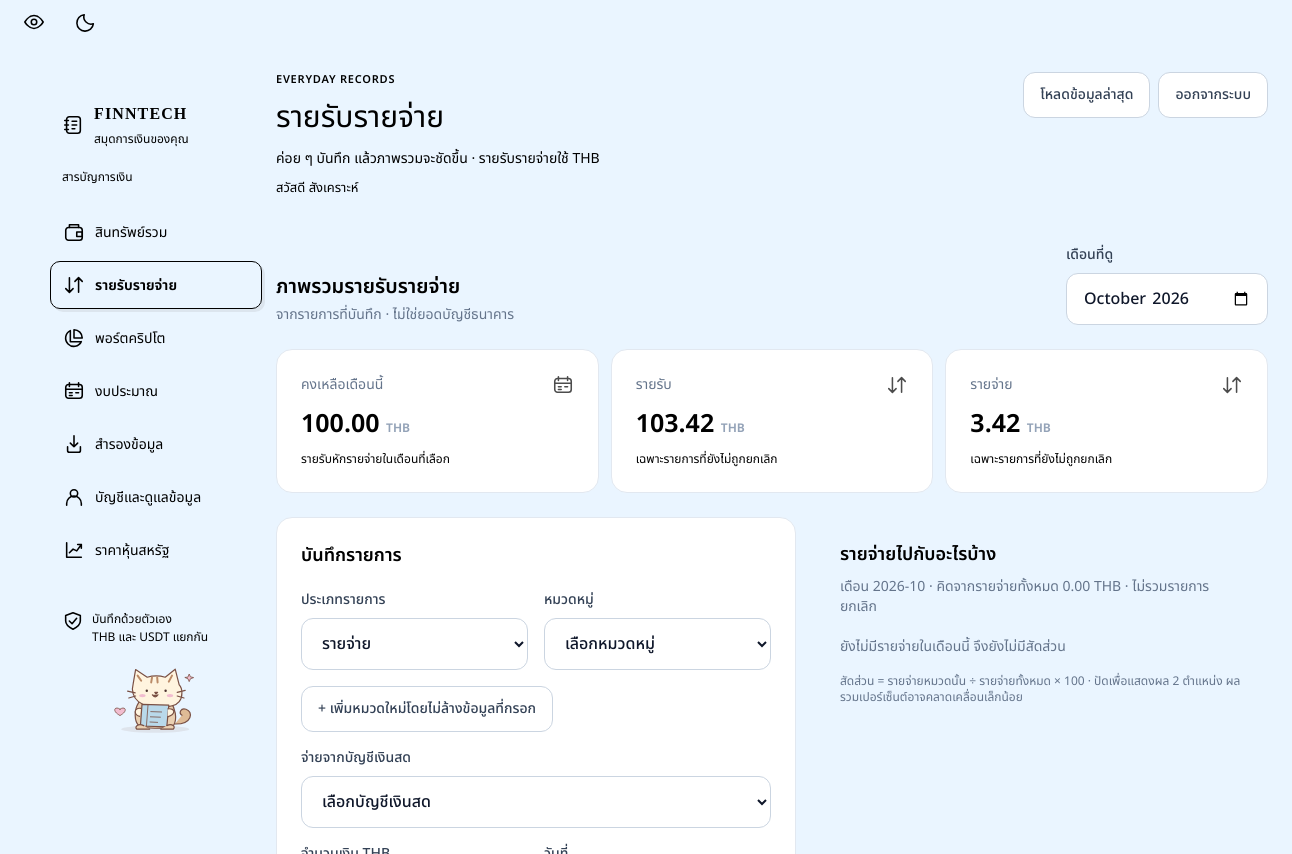
tracker presentation preserves financial boundaries › keeps the original decimal-string write path usable with amounts hidden
This screenshot has width=1292, height=854.
Click the button named "ซ่อนยอดเงิน" at (34, 22), box [12,0,56,44]
(page scrolled)
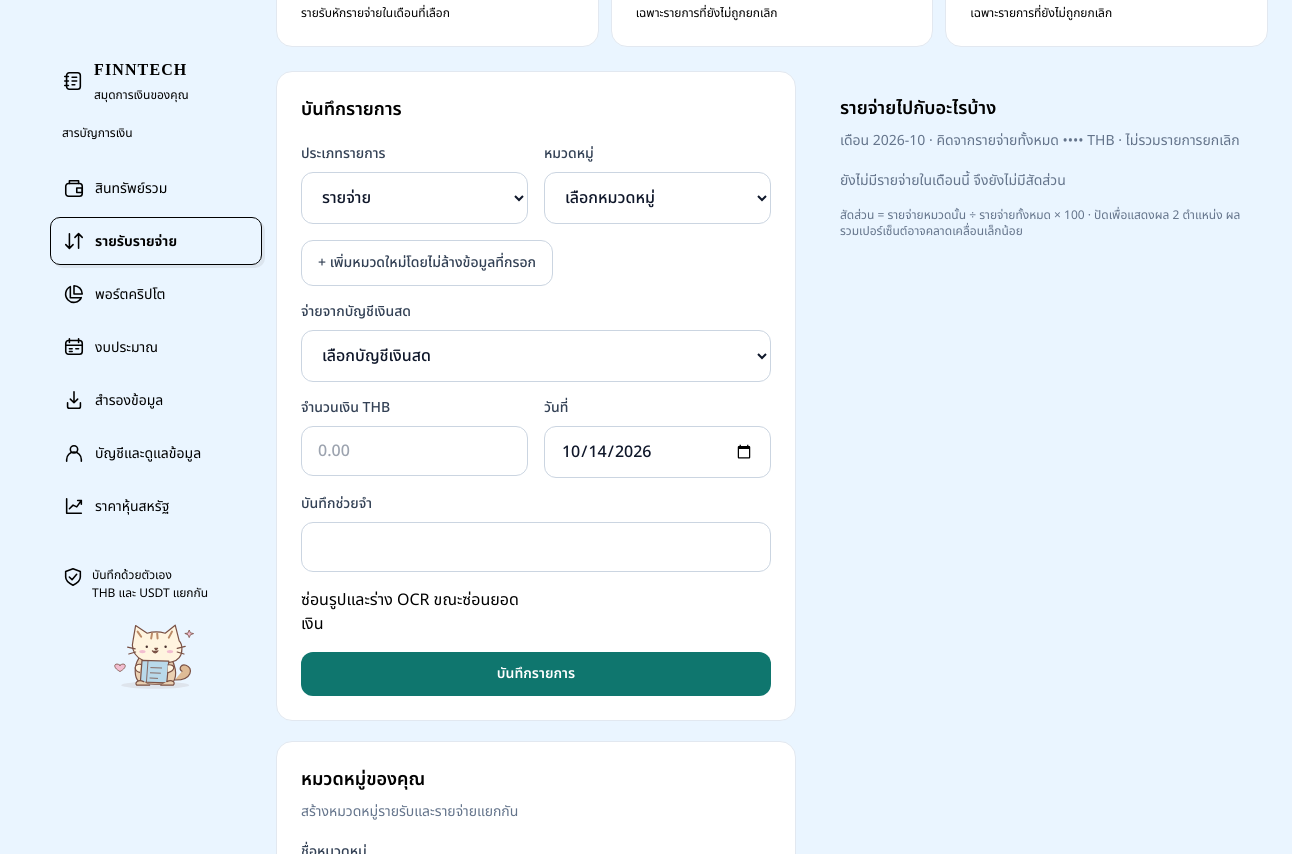
Type "1.25" into the field labelled "จำนวนเงิน THB" at (414, 450), box [301,426,528,476]
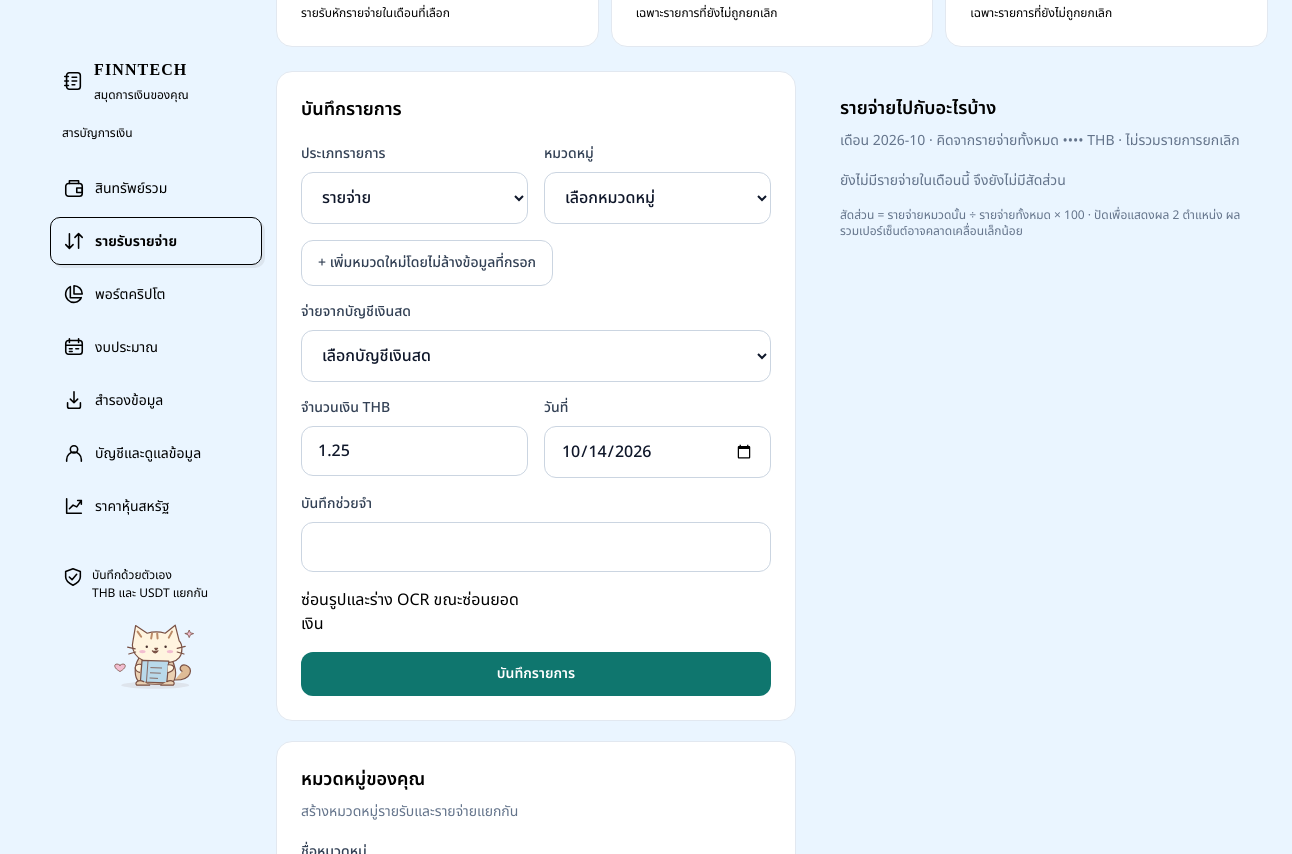
Select "หมวดสังเคราะห์" in the dropdown labelled "หมวดหมู่" at (658, 198), box [544,172,771,224]
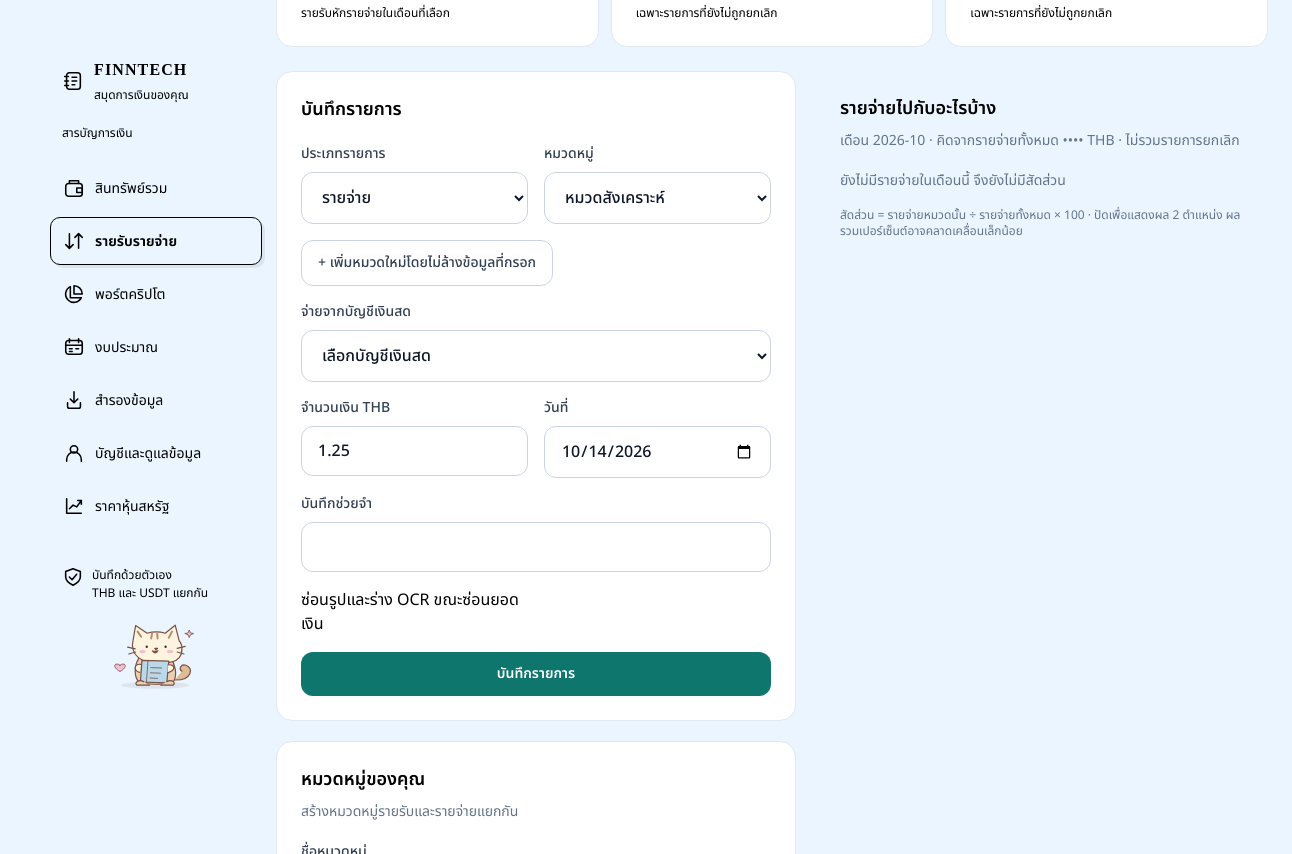
Select "กระเป๋าเงิน · •••• THB" in the dropdown labelled "จ่ายจากบัญชีเงินสด" at (536, 356), box [301,330,771,382]
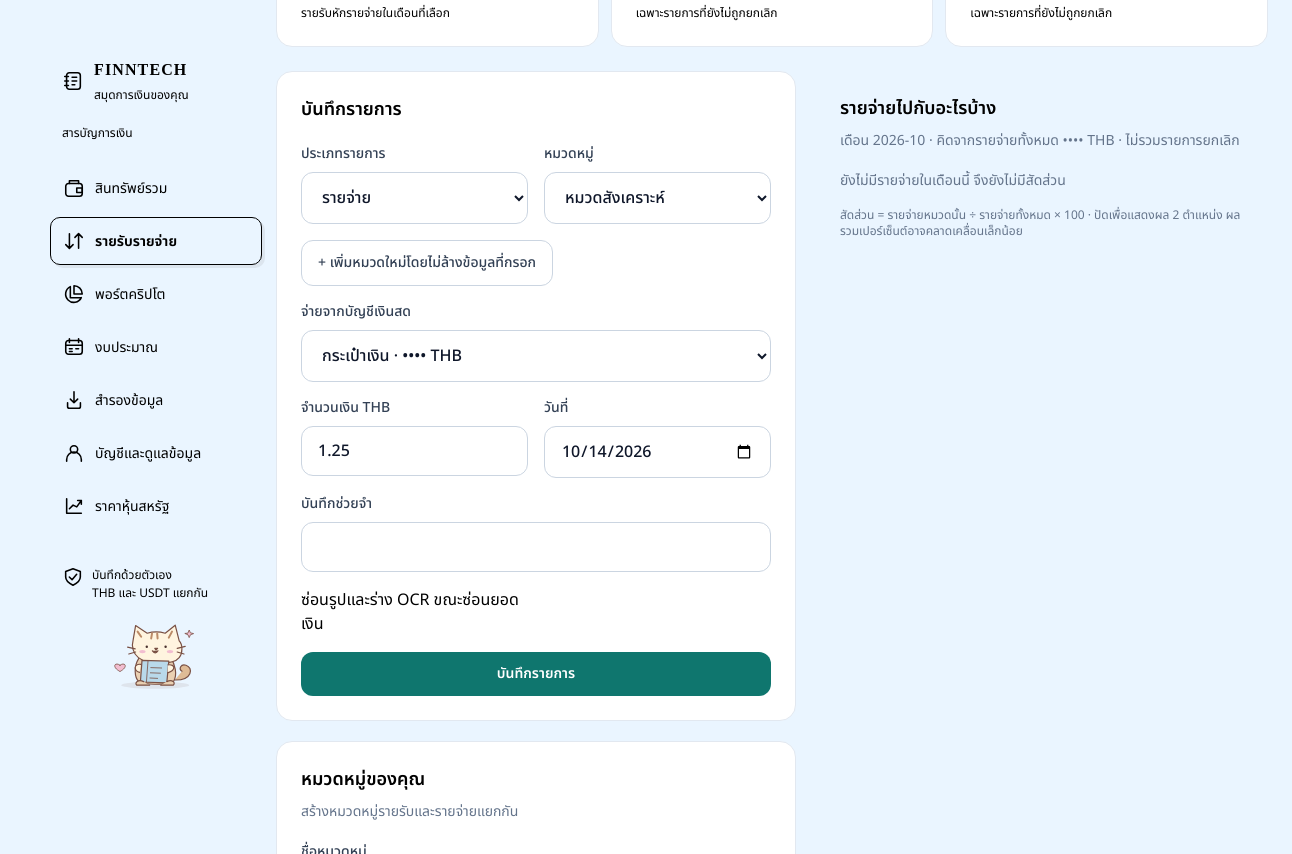
Check: the button "บันทึกรายการ" is enabled, box [301,652,771,696]
Submit the form named "บันทึกรายรับรายจ่าย", box [301,144,771,696]
(page scrolled)
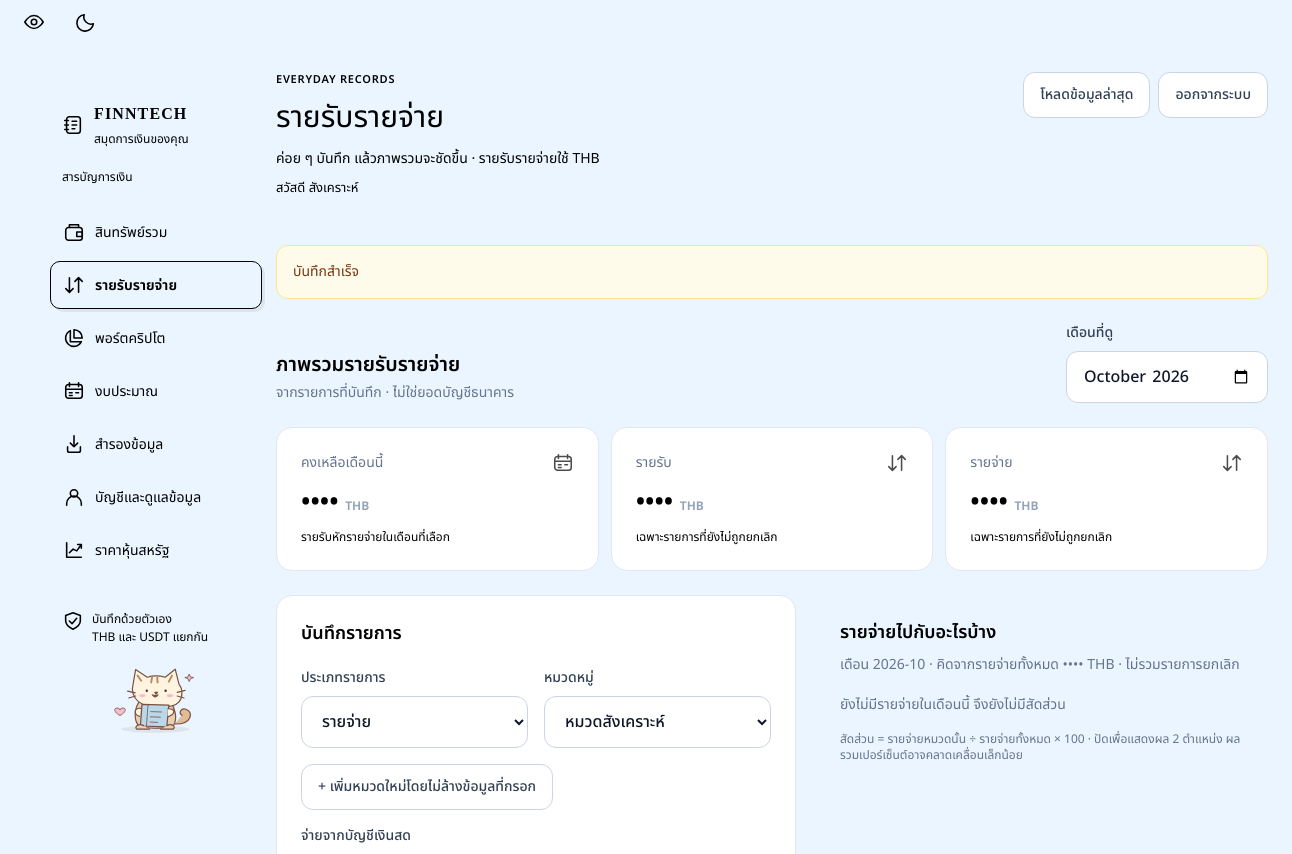
Check: the text "บันทึกสำเร็จ" is shown, box [276,244,1268,298]
